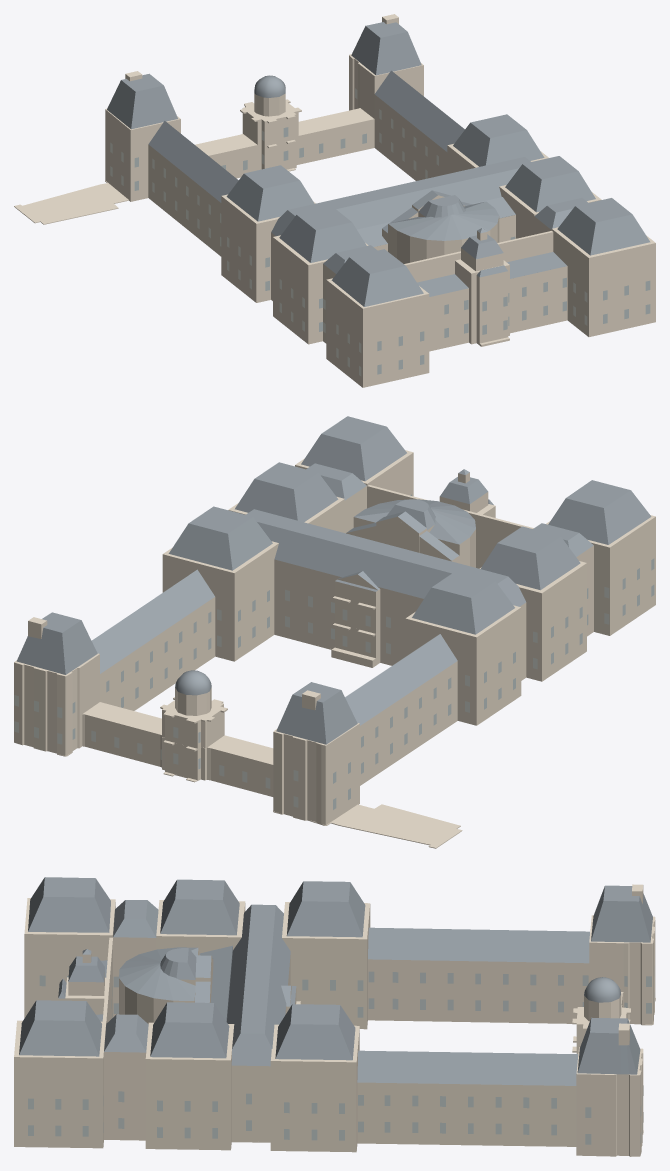
The picture shows the model from 3 angles, top to bottom: view 1: azimuth 30°, elevation 25°; view 2: azimuth 150°, elevation 25°; view 3: azimuth 270°, elevation 25°; orthographic projection. The views are drawn at different scales.
Parts seen in each view (by area): view 1: stone, roof, window; view 2: stone, roof, window; view 3: stone, roof, window.
Part boxes in pixels (x1,y1,x2,y2): stone: (14,14,655,387); roof: (107,22,650,306); window: (110,88,650,376); stone: (14,450,655,848); roof: (16,416,651,744); window: (14,494,654,809); stone: (14,884,655,1156); roof: (19,877,652,1085); window: (28,966,654,1144).
Bounding box in the file's own units: 119 × 32 × 153.
